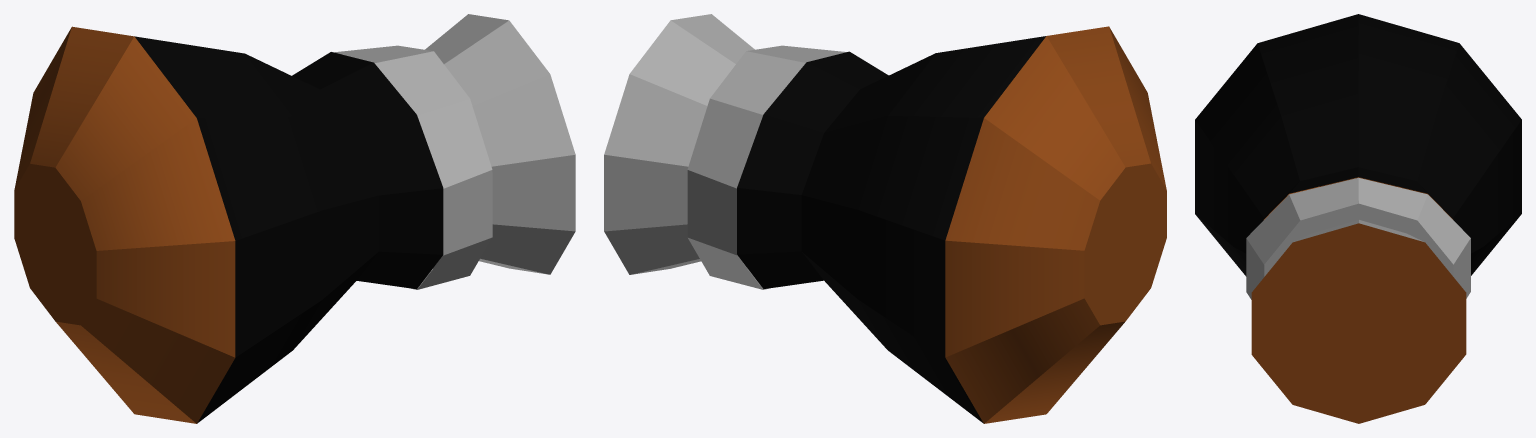
File: Buttons.fbx
3 renders of one model, left to right at view 1: azimuth 30°, elevation 25°; view 2: azimuth 150°, elevation 25°; view 3: azimuth 270°, elevation 25°, orthographic. The views are drawn at different scales.
Parts seen in each view (by area): view 1: polySurface99; view 2: polySurface99; view 3: polySurface99.
Part boxes in pixels (left/top/right/bottom): polySurface99: left=14, top=14, right=575, bottom=423; polySurface99: left=604, top=14, right=1166, bottom=423; polySurface99: left=1195, top=14, right=1521, bottom=423.
Size of the model in its own units: 0.0467 by 0.0371 by 0.036.
1 material, 1 textured.
